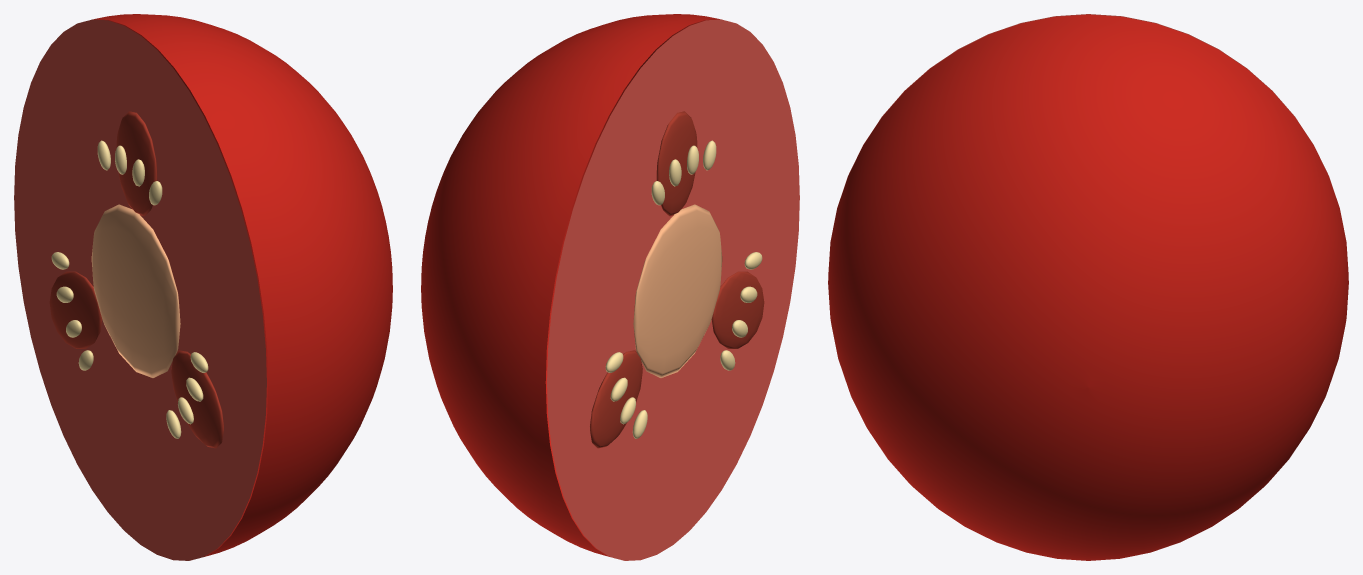
File: cherry_half.glb
3 renders of one model, left to right at view 1: azimuth 30°, elevation 25°; view 2: azimuth 150°, elevation 25°; view 3: azimuth 270°, elevation 25°, orthographic. The views are drawn at different scales.
Parts seen in each view (by area): view 1: Cut flesh, Prepared right half, Pale central core, Seed chamber.002, Seed chamber.001, Seed chamber; view 2: Cut flesh, Prepared right half, Pale central core, Seed chamber.001, Seed chamber.002, Seed chamber; view 3: Prepared right half, Cut flesh.
Boxes of the visible parts, x1,y1,x2,y2 form: Cut flesh: (14, 19, 266, 560); Prepared right half: (92, 14, 392, 556); Pale central core: (91, 204, 180, 377); Seed chamber.002: (49, 271, 102, 348); Seed chamber.001: (171, 350, 223, 448); Seed chamber: (116, 111, 157, 216); Cut flesh: (547, 19, 799, 560); Prepared right half: (421, 14, 721, 556); Pale central core: (633, 204, 722, 377); Seed chamber.001: (711, 271, 764, 348); Seed chamber.002: (590, 350, 642, 448); Seed chamber: (656, 111, 697, 216); Prepared right half: (828, 14, 1348, 560); Cut flesh: (829, 14, 1347, 251).
Bounding box in the file's own units: 0.5853 × 1.2 × 1.08.
